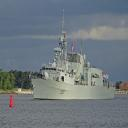Fragata: (29, 8, 117, 103)
